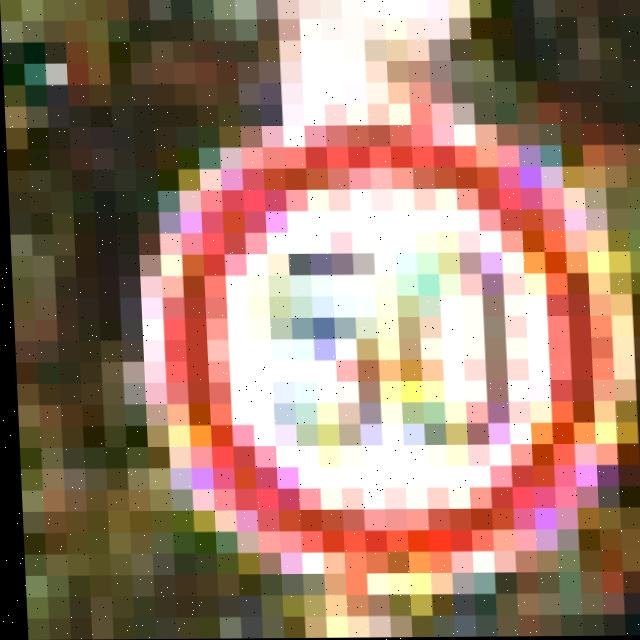speed_limit_50: (82, 98, 621, 586)
